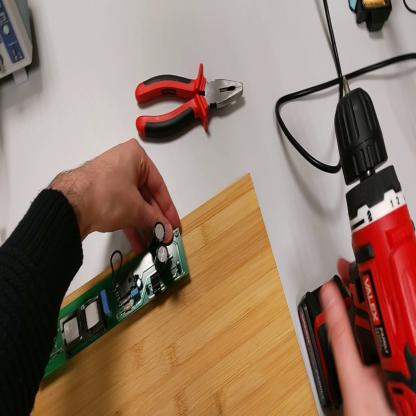electric screwdriver: (299, 77, 416, 414)
hand: (79, 139, 181, 255), (321, 258, 395, 413)
high voltage board: (40, 221, 193, 385)
oscilloscope: (1, 2, 36, 88)
pliers: (132, 64, 248, 143)
welder base: (348, 2, 394, 35)
working area: (33, 172, 320, 416)
